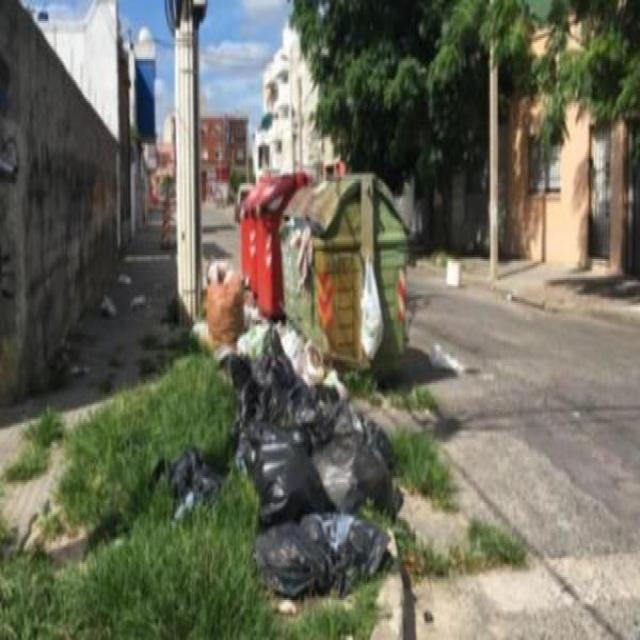garbage: (228, 356, 394, 591), (148, 444, 220, 526), (210, 262, 250, 348), (358, 255, 382, 370), (440, 253, 466, 297), (278, 216, 317, 242), (292, 250, 316, 288), (92, 292, 118, 316), (113, 270, 137, 288), (128, 290, 145, 310)
